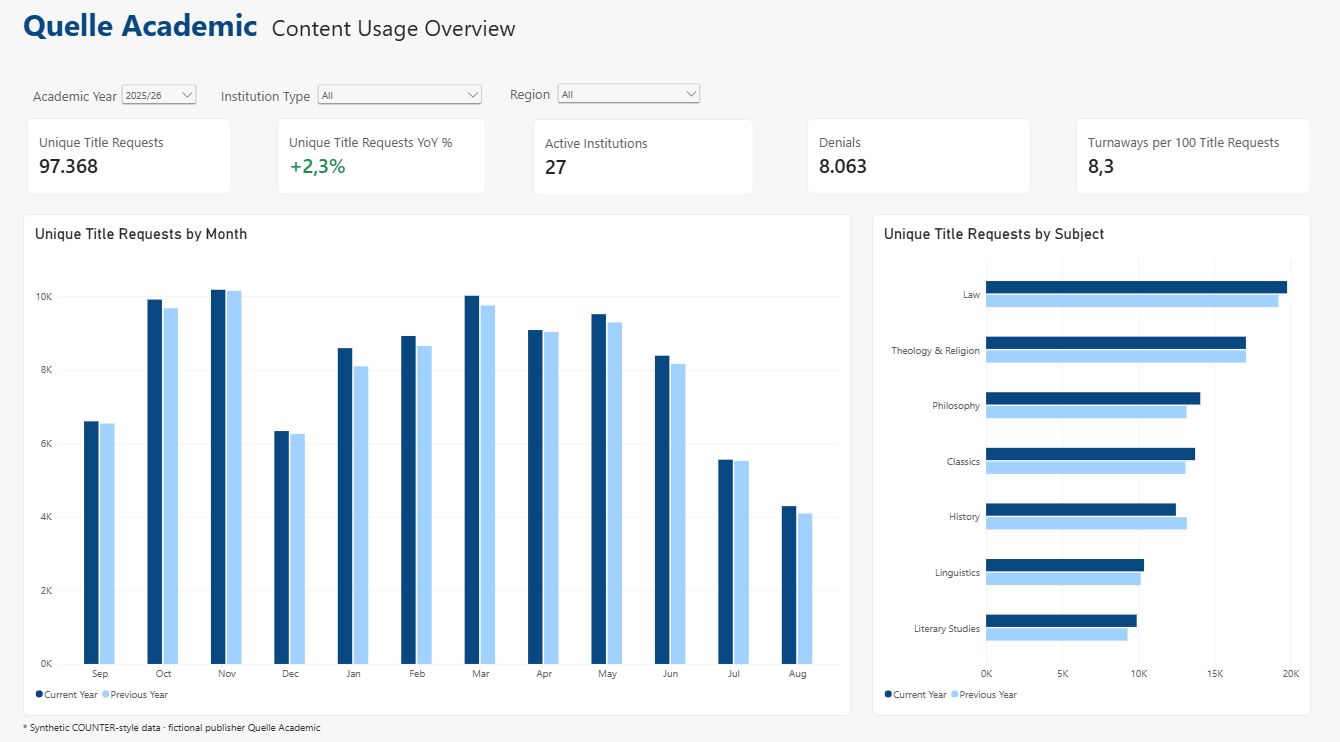

What the dashboard file says about the page in this screenshot:
{"tool":"powerbi","page":{"name":"How is our content being used?","canvas":[1920,1080],"ordinal":0},"visuals":[{"type":"textbox","box":[34.8,16.7,763,67.8],"z":0},{"type":"slicer","fields":{"Values":["dim_date.academic_year"]},"box":[170,127.8,116.7,40],"z":1000},{"type":"textbox","box":[48.9,135.6,139,27.8],"z":2000},{"type":"slicer","fields":{"Values":["dim_institution.institution_type"]},"box":[450,126.7,245,45],"z":3000},{"type":"textbox","box":[288.4,112.5,144.6,45.5],"z":4000},{"type":"slicer","fields":{"Values":["dim_institution.region"]},"box":[793.3,125.6,214.4,45.6],"z":5000},{"type":"textbox","box":[730,132.2,67,34.8],"z":6000},{"type":"cardVisual","fields":{"Data":["_Measures.Unique Title Requests"]},"box":[39.7,179.4,292.1,109.5],"z":7000},{"type":"cardVisual","fields":{"Data":["_Measures.Unique Title Requests YoY %"]},"box":[396.8,179.4,298.4,109.5],"z":8000},{"type":"cardVisual","fields":{"Data":["_Measures.Active Institutions"]},"box":[763.5,181,315.9,109.5],"z":9000},{"type":"cardVisual","fields":{"Data":["_Measures.Denials"]},"box":[1154,179.4,320.6,109.5],"z":10000},{"type":"cardVisual","fields":{"Data":["_Measures.Turnaways per 100 Title Requests"]},"box":[1538.1,179.4,336.5,109.5],"z":11000},{"type":"clusteredColumnChart","title":"Unique Title Requests by Month","fields":{"Category":["dim_date.academic_month_label"],"Y":["_Measures.Unique Title Requests","_Measures.Unique Title Requests PY"]},"box":[34.9,317.5,1182.5,717.5],"z":12000},{"type":"clusteredBarChart","title":"Unique Title Requests by Subject","fields":{"Category":["dim_title.subject"],"Y":["_Measures.Unique Title Requests","_Measures.Unique Title Requests PY"]},"box":[1247.6,317.5,627,717.5],"z":13000},{"type":"textbox","box":[316.7,135.6,137.8,37.8],"z":14000},{"type":"textbox","box":[34.9,1040,536.5,30.2],"z":15000}]}

Visuals, with their boxes in screenshot pixels (x1, y1, x2, y2), scaled from the page's 1920x1080 canvas onto the 1340x742 screenshot:
textbox: Rect(24, 11, 557, 58)
slicer - dim_date.academic_year: Rect(119, 88, 200, 115)
textbox: Rect(34, 93, 131, 112)
slicer - dim_institution.institution_type: Rect(314, 87, 485, 118)
textbox: Rect(201, 77, 302, 109)
slicer - dim_institution.region: Rect(554, 86, 703, 118)
textbox: Rect(509, 91, 556, 115)
cardVisual - _Measures.Unique Title Requests: Rect(28, 123, 232, 198)
cardVisual - _Measures.Unique Title Requests YoY %: Rect(277, 123, 485, 198)
cardVisual - _Measures.Active Institutions: Rect(533, 124, 753, 200)
cardVisual - _Measures.Denials: Rect(805, 123, 1029, 198)
cardVisual - _Measures.Turnaways per 100 Title Requests: Rect(1073, 123, 1308, 198)
"Unique Title Requests by Month" clusteredColumnChart: Rect(24, 218, 850, 711)
"Unique Title Requests by Subject" clusteredBarChart: Rect(871, 218, 1308, 711)
textbox: Rect(221, 93, 317, 119)
textbox: Rect(24, 715, 399, 735)
